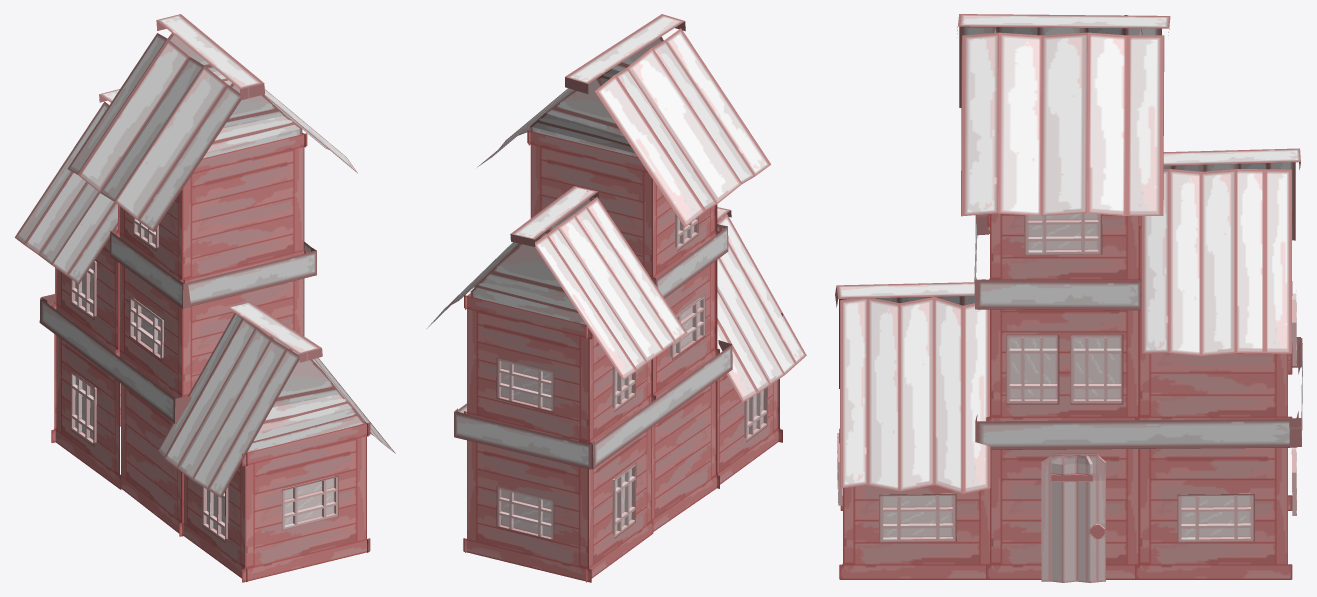
Rendered from Betsy's_House.fbx.
3 renders of one model, left to right at view 1: azimuth 30°, elevation 25°; view 2: azimuth 150°, elevation 25°; view 3: azimuth 270°, elevation 25°, orthographic. The views are drawn at different scales.
Parts seen in each view (by area): view 1: Plane.023, Plane.018, Plane.015, Plane.024, Plane.025, Plane.002, Plane.012, Plane, Plane.052, Plane.013, Plane.030, Plane.016 (+15 smaller); view 2: Plane.023, Plane.025, Plane.006, Plane.005, Plane.024, Plane.020, Plane.002, Plane, Plane.053, Plane.030, Plane.016, Plane.050 (+17 smaller); view 3: Plane.010, Plane.022, Plane.021, Plane.001, Plane.004, Plane.007, Plane.014, Plane.011, Plane.026, Plane.032, Plane.019, Plane.027 (+11 smaller).
Part boxes in pixels (x1,y1,x2,y2): Plane.023: (67, 33, 240, 231); Plane.018: (180, 133, 307, 280); Plane.015: (242, 422, 370, 582); Plane.024: (157, 313, 299, 497); Plane.025: (15, 101, 117, 284); Plane.002: (120, 384, 183, 536); Plane.012: (179, 250, 307, 397); Plane: (55, 335, 121, 489); Plane.052: (247, 359, 365, 452); Plane.013: (117, 263, 184, 398); Plane.030: (39, 295, 191, 423); Plane.016: (183, 453, 247, 581); Plane.023: (594, 28, 770, 227); Plane.025: (535, 197, 687, 380); Plane.006: (464, 295, 592, 443); Plane.005: (463, 440, 591, 582); Plane.024: (717, 214, 806, 402); Plane.020: (527, 130, 655, 279); Plane.002: (652, 381, 716, 531); Plane: (586, 427, 653, 582); Plane.053: (470, 238, 585, 324); Plane.030: (579, 340, 732, 469); Plane.016: (717, 374, 778, 484); Plane.050: (530, 77, 637, 157); Plane.010: (961, 32, 1164, 216); Plane.022: (840, 297, 990, 493); Plane.021: (1141, 169, 1291, 355); Plane.001: (1135, 448, 1292, 579); Plane.004: (986, 449, 1138, 579); Plane.007: (1135, 281, 1292, 420); Plane.014: (839, 428, 989, 579); Plane.011: (986, 309, 1138, 421); Plane.026: (975, 411, 1298, 449); Plane.032: (1041, 453, 1105, 582); Plane.019: (986, 213, 1141, 280); Plane.027: (975, 276, 1140, 310).
Bounding box in the file's own units: 261 × 518 × 419.
Materials: 38 (38 with a texture image).
